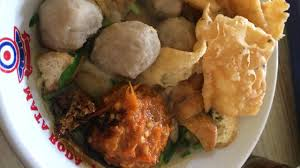bakso: (37, 5, 285, 168)
